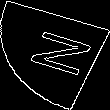N_E: (16, 27, 94, 83)
